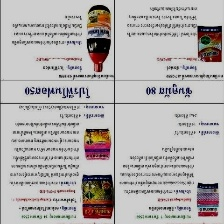insecticide: (82, 2, 113, 73), (79, 169, 116, 220), (194, 23, 223, 63), (83, 126, 112, 165), (195, 180, 222, 219)
